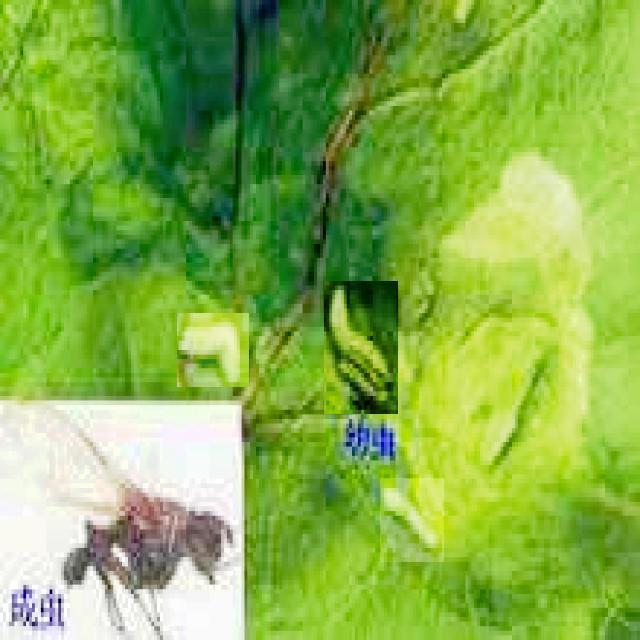whorl-maggot: (324, 281, 398, 414), (380, 478, 444, 562), (177, 313, 249, 387)
